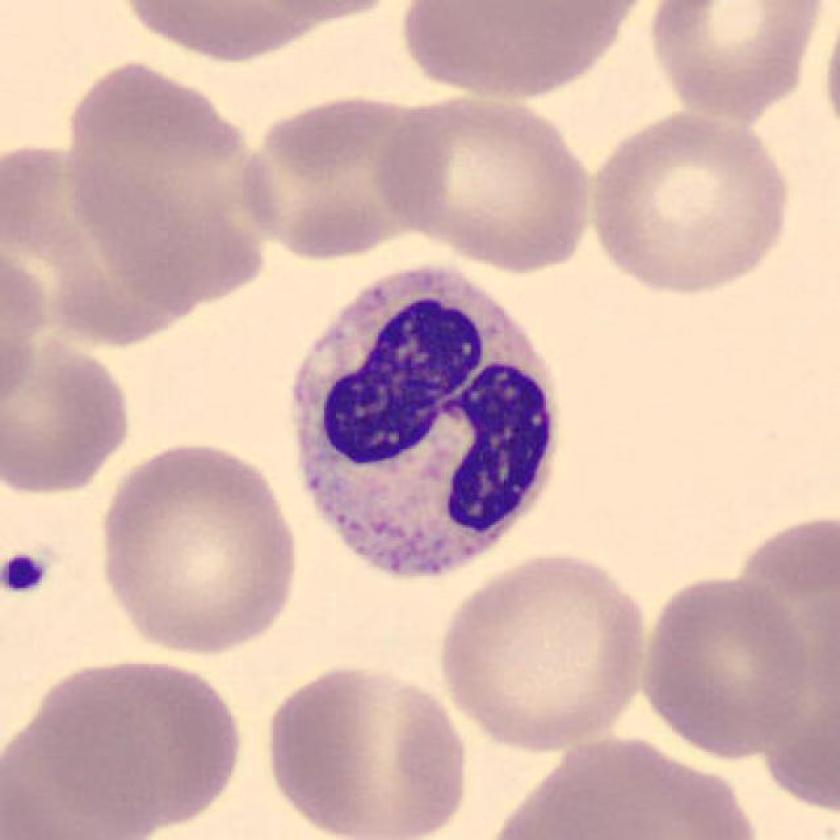neutrophil: (299, 266, 561, 575)
